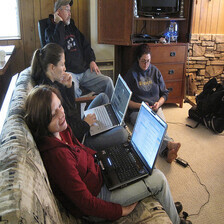laptop: (96, 105, 166, 194), (65, 74, 134, 132)
